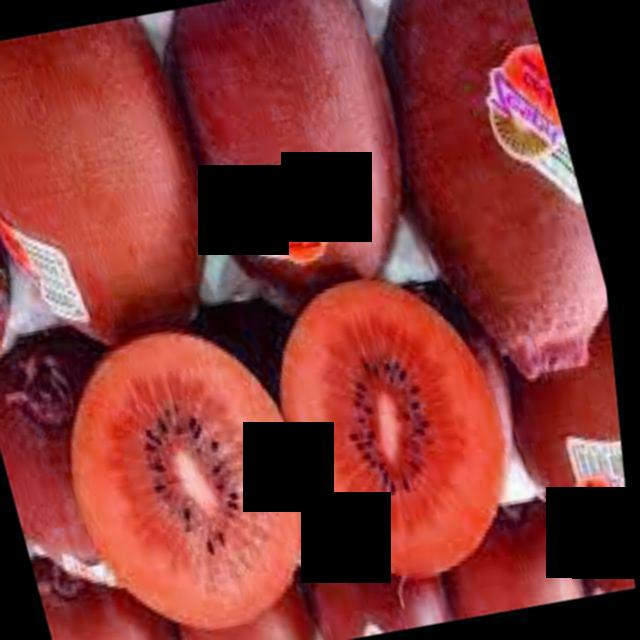kiwi: (367, 2, 621, 389), (163, 2, 456, 321), (1, 15, 259, 360), (1, 323, 178, 581), (493, 314, 633, 551), (290, 523, 463, 640), (428, 501, 592, 620), (1, 53, 48, 370), (162, 560, 322, 640), (39, 565, 183, 640), (571, 499, 636, 591)
